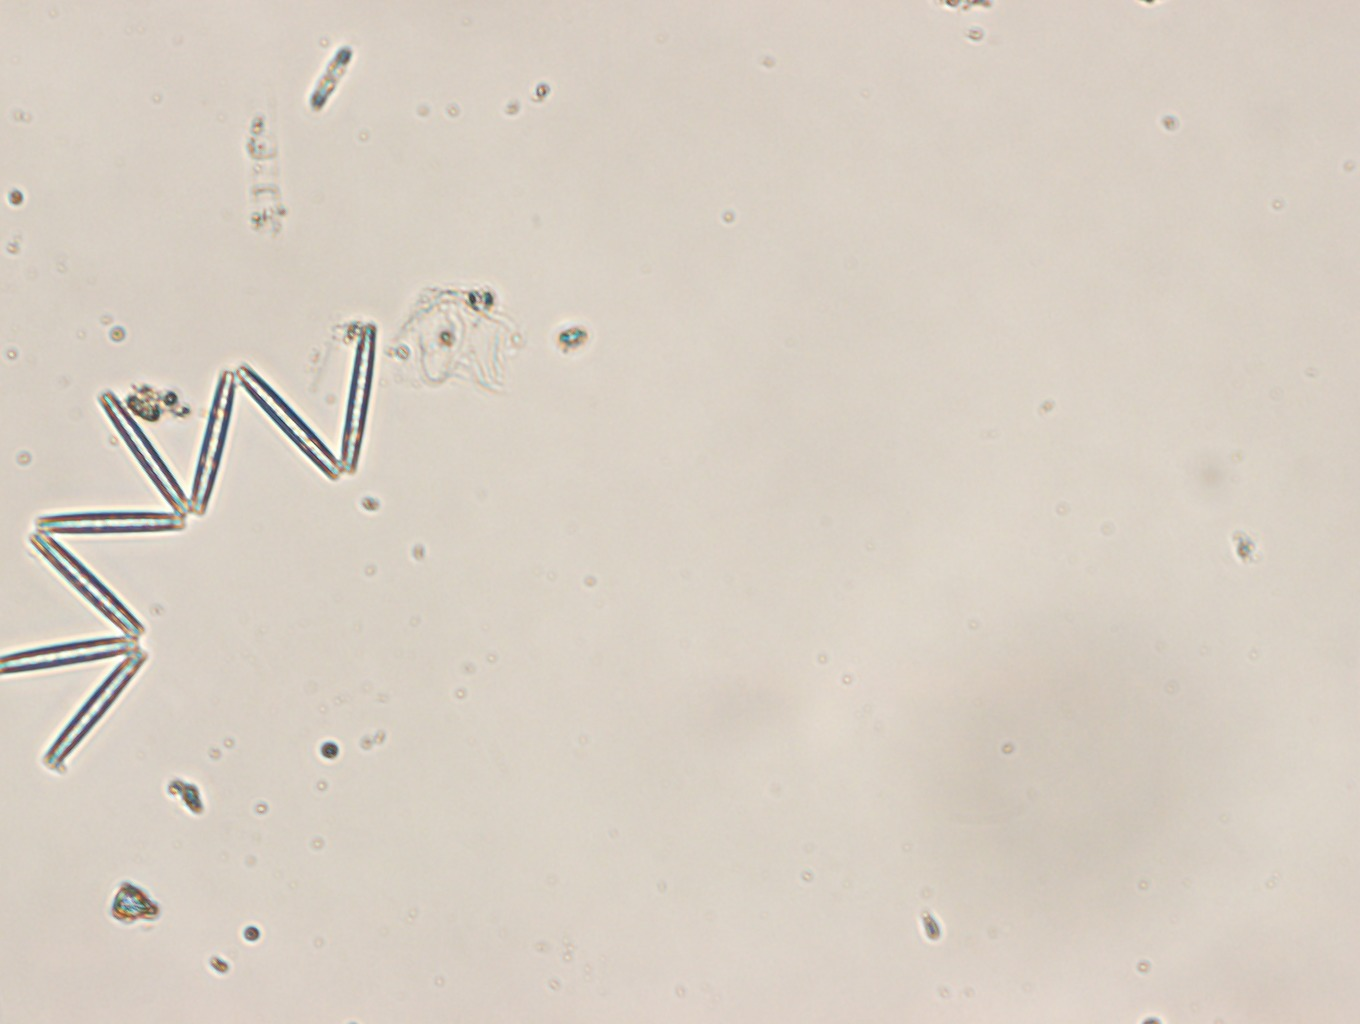thalassionema nitzschioides: (2, 322, 376, 773)
